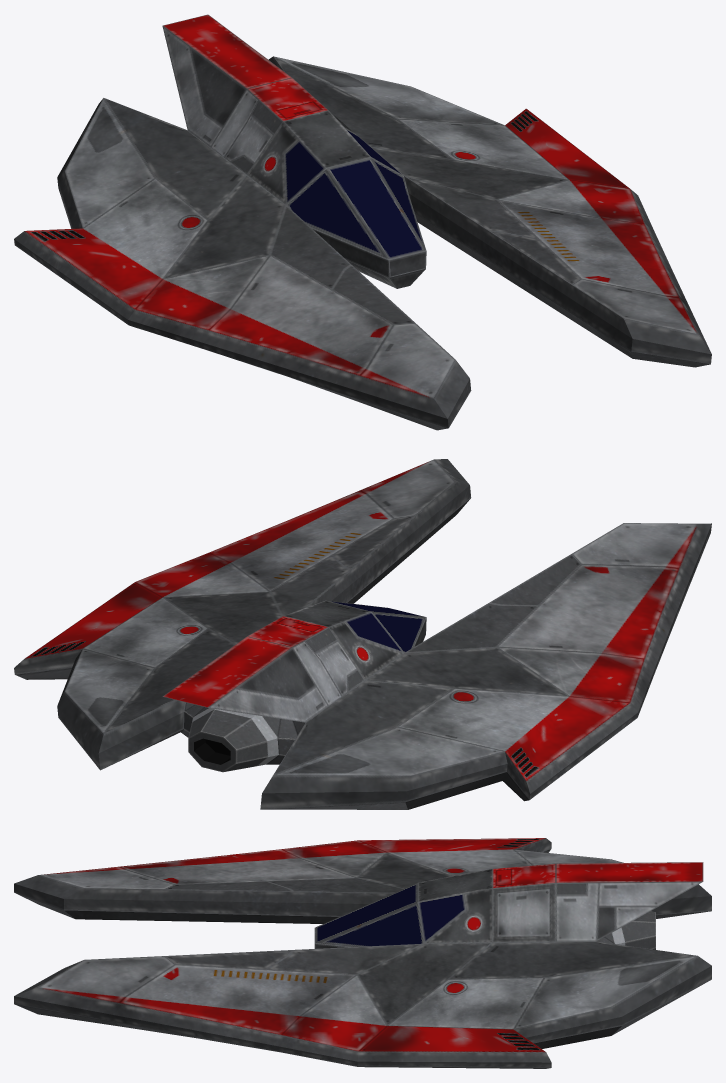
File: Spaceship19.fbx
3 renders of one model, top to bottom at view 1: azimuth 30°, elevation 25°; view 2: azimuth 150°, elevation 25°; view 3: azimuth 270°, elevation 25°, orthographic. The views are drawn at different scales.
Visible parts, largest first — view 1: Spacechip19; view 2: Spacechip19; view 3: Spacechip19.
Boxes of the visible parts, <box> form: Spacechip19: <box>14,14,711,430</box>; Spacechip19: <box>14,459,711,809</box>; Spacechip19: <box>14,838,711,1068</box>.
Size of the model in its own units: 673 by 138 by 902.
